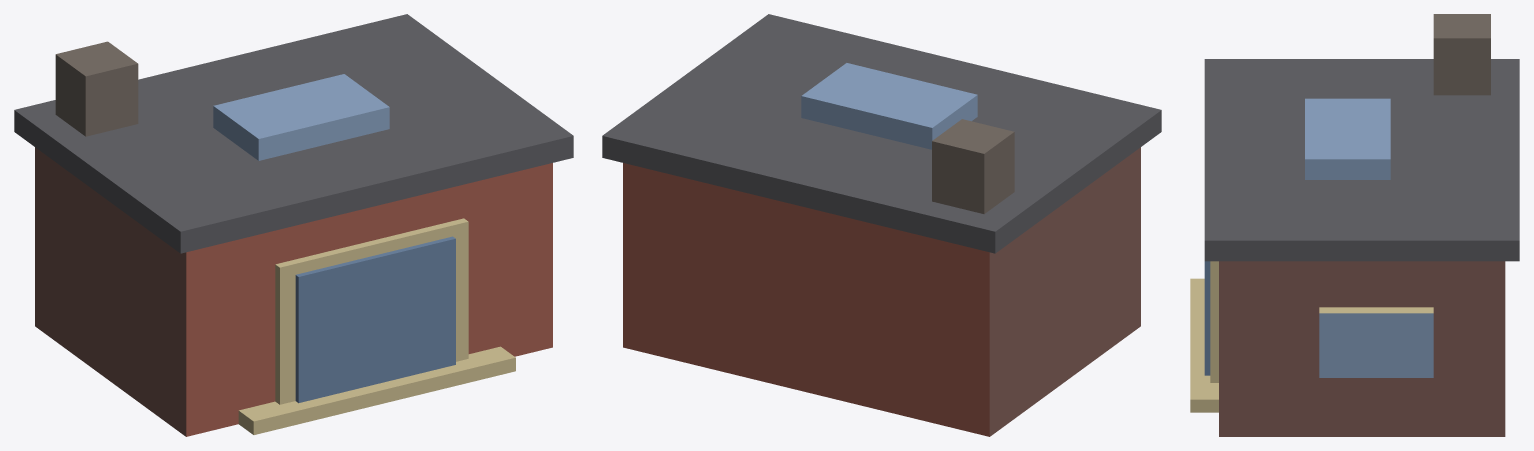
File: Workshop.fbx
3 views of the same model, side by side, from view 1: azimuth 30°, elevation 25°; view 2: azimuth 150°, elevation 25°; view 3: azimuth 270°, elevation 25° (orthographic). The views are drawn at different scales.
Parts seen in each view (by area): view 1: Workshop; view 2: Workshop; view 3: Workshop.
Boxes of the visible parts, bbox=[...] form: Workshop: bbox=[14, 14, 573, 436]; Workshop: bbox=[602, 14, 1161, 436]; Workshop: bbox=[1190, 14, 1519, 436].
Size of the model in its own units: 1500 by 1000 by 1150.
